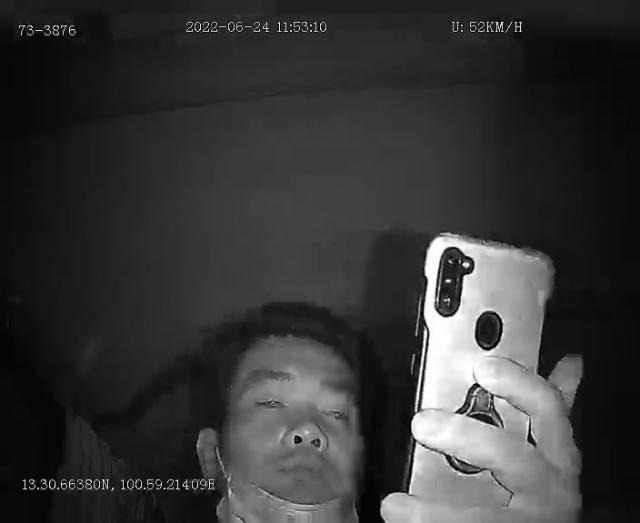PhoneUse: (397, 226, 558, 523)
SafeDriving: (312, 390, 358, 432), (247, 383, 293, 418)
